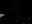person: (1, 14, 7, 18)
